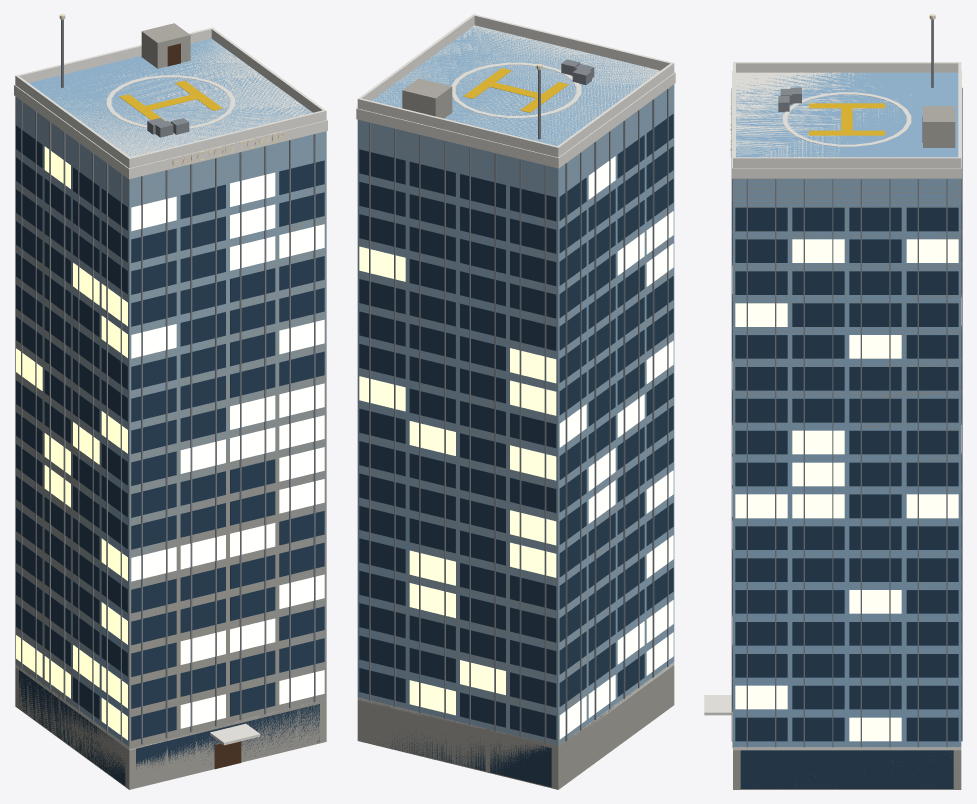
The model's file is BLD_Tower_A.fbx.
3 views of the same model, side by side, from view 1: azimuth 30°, elevation 25°; view 2: azimuth 150°, elevation 25°; view 3: azimuth 270°, elevation 25° (orthographic).
Visible parts, largest first — view 1: BLD_Tower_A__BODY, BLD_Tower_A__COL_Main, BLD_Tower_A__SIGN; view 2: BLD_Tower_A__BODY, BLD_Tower_A__COL_Main; view 3: BLD_Tower_A__BODY, BLD_Tower_A__COL_Main.
Boxes of the visible parts, x1,y1,x2,y2 form: BLD_Tower_A__BODY: [14, 14, 327, 789]; BLD_Tower_A__COL_Main: [15, 97, 326, 789]; BLD_Tower_A__SIGN: [172, 132, 285, 167]; BLD_Tower_A__BODY: [356, 14, 675, 789]; BLD_Tower_A__COL_Main: [357, 84, 674, 789]; BLD_Tower_A__BODY: [704, 14, 962, 788]; BLD_Tower_A__COL_Main: [733, 178, 961, 789].
Bounding box in the file's own units: 24.28 × 80.6 × 27.14.
